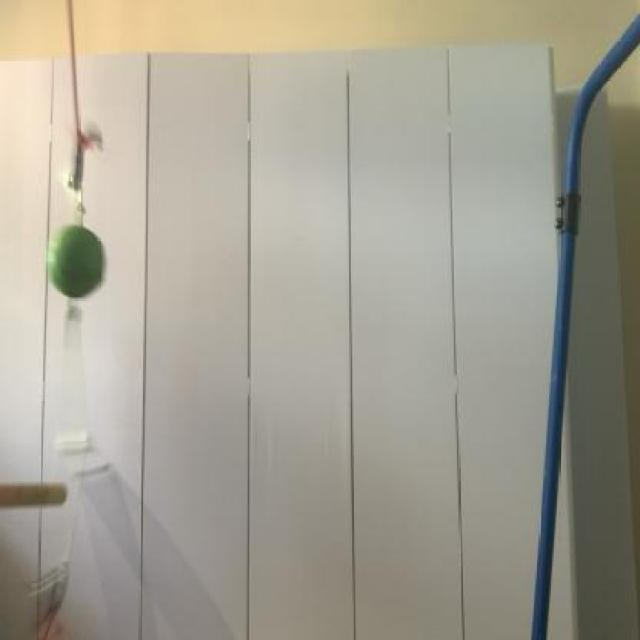baseball: (39, 223, 112, 297)
